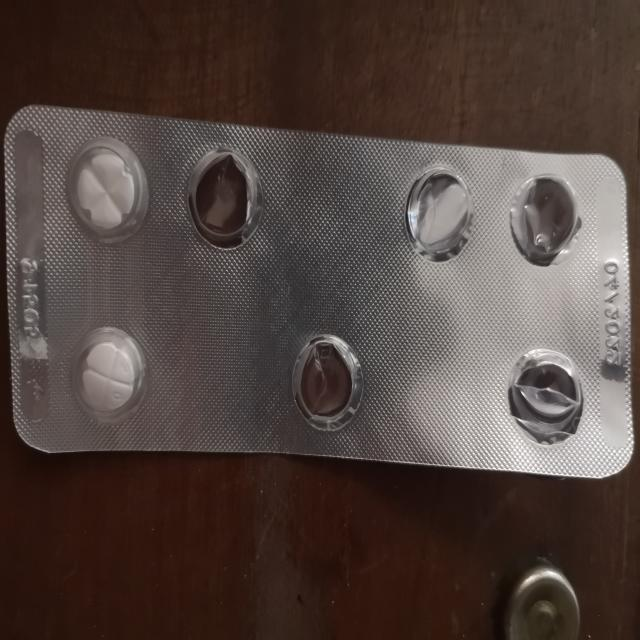Empty: (495, 163, 589, 270), (506, 343, 596, 451), (183, 139, 265, 244), (287, 331, 371, 432), (401, 156, 475, 268)
Pill: (60, 132, 151, 243), (68, 329, 151, 424)
